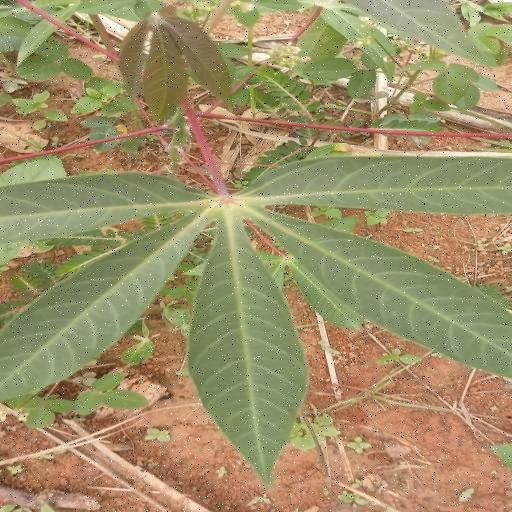Cassava_Healthy: (0, 155, 512, 478)
